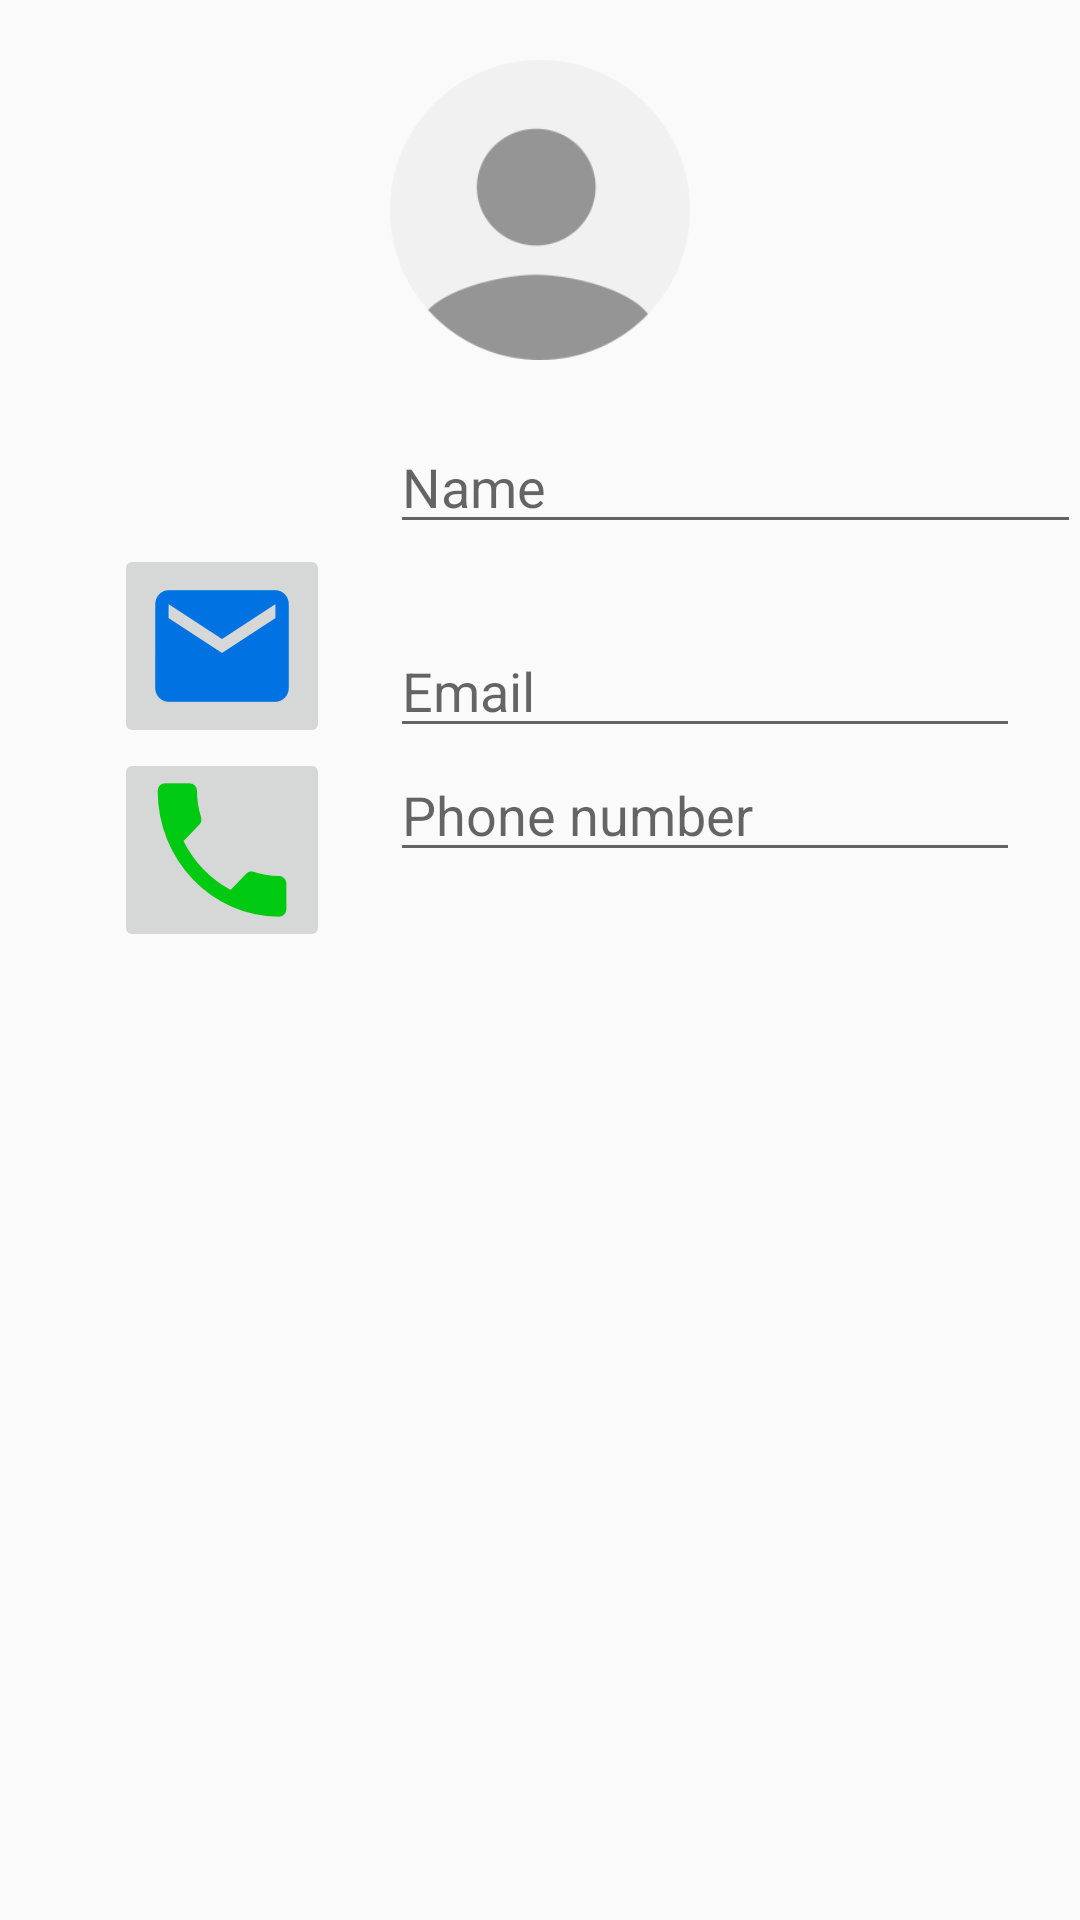

Icons on this 1080 x 1920 Android screen, each with the point to tap as [x,y]:
Contact Image: [540,210]
